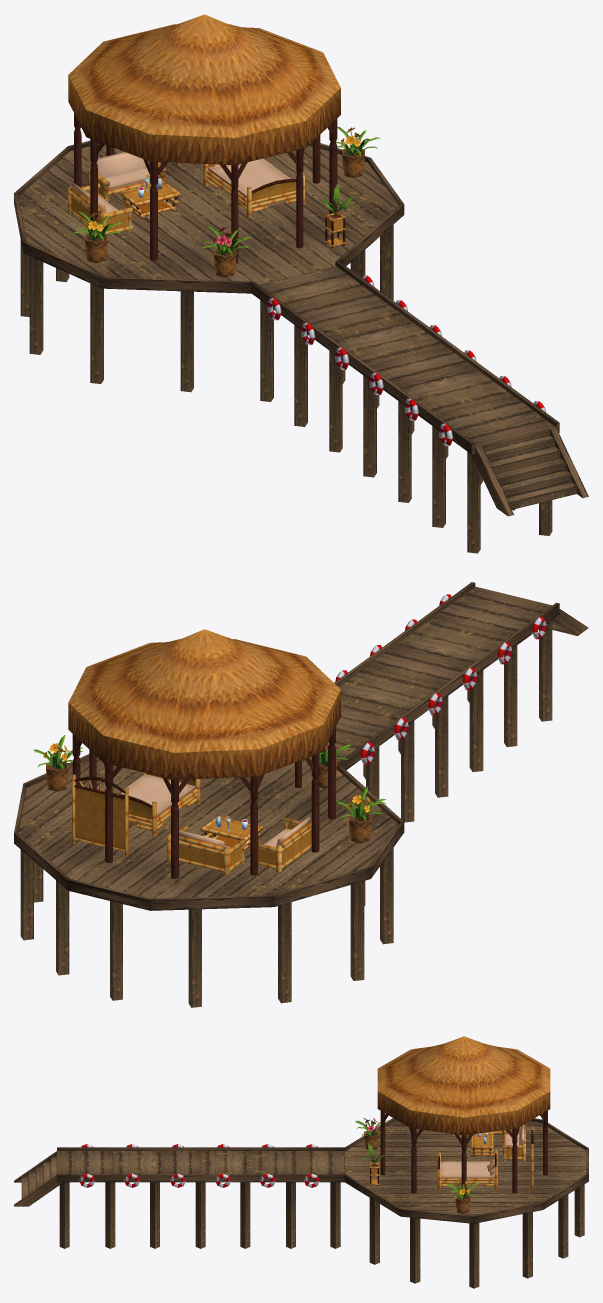
The model's file is SC_HDjianzhu01.FBX.
3 views of the same model, one above another, from view 1: azimuth 30°, elevation 25°; view 2: azimuth 150°, elevation 25°; view 3: azimuth 270°, elevation 25° (orthographic). The views are drawn at different scales.
Visible parts, largest first — view 1: SC_HDjianzhu01; view 2: SC_HDjianzhu01; view 3: SC_HDjianzhu01.
Boxes of the visible parts, bbox=[...] form: SC_HDjianzhu01: bbox=[14, 14, 588, 553]; SC_HDjianzhu01: bbox=[14, 582, 588, 1007]; SC_HDjianzhu01: bbox=[14, 1036, 588, 1288].
Bounding box in the file's own units: 377 × 315 × 823.
